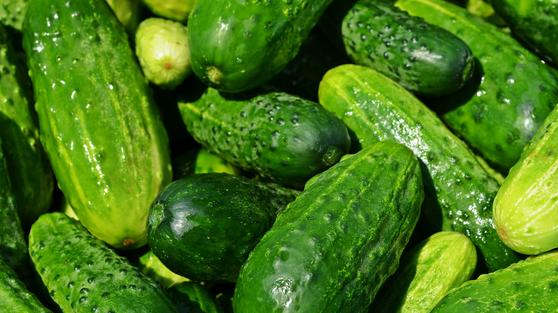cucumber: (23, 1, 187, 252), (256, 138, 423, 313), (187, 80, 353, 186), (341, 4, 486, 104)
